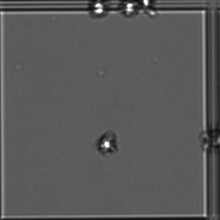Living Cell: (93, 127, 122, 157), (88, 1, 113, 25), (121, 1, 140, 26)
